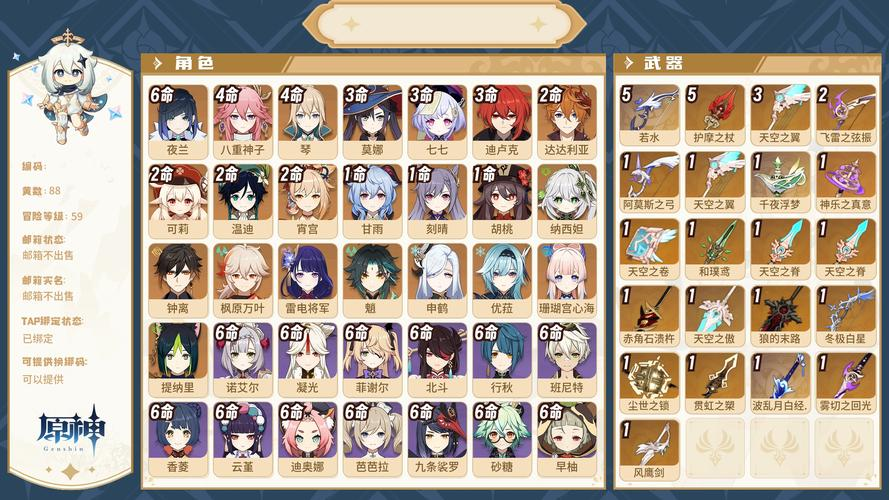夜兰: (149, 85, 210, 143)
